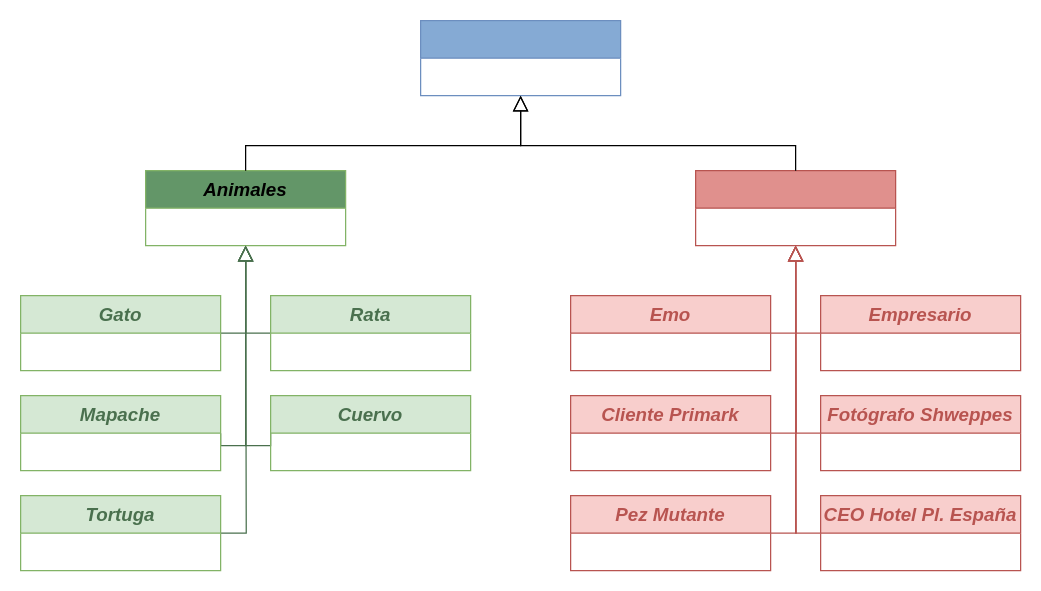
This 1041x591 diagram has some shape labels left out. Each missing label, with the centre of its shape:
Enemigos: [795,207]
Personajes: [520,57]
